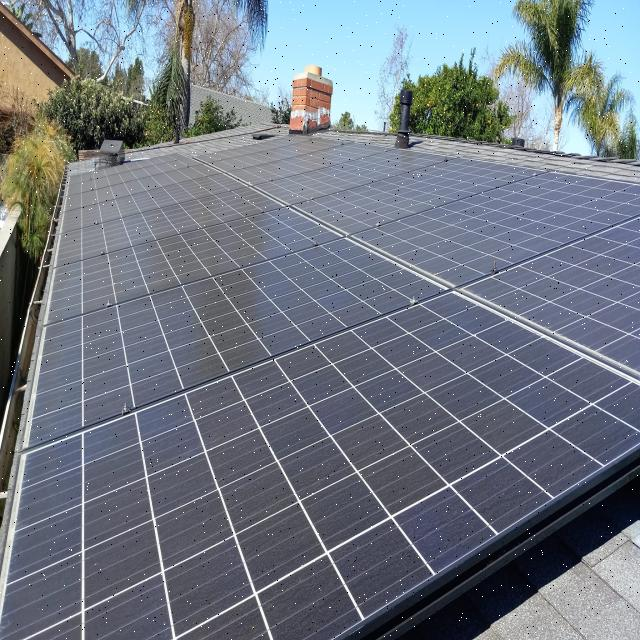dusty: (0, 290, 640, 640), (25, 238, 452, 442)
